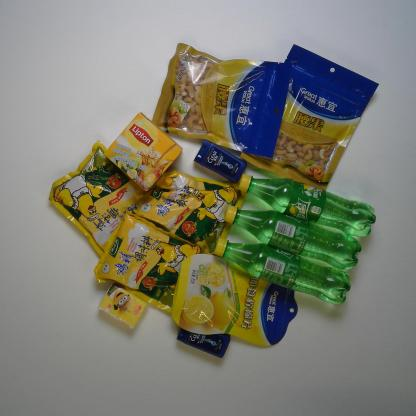Dried Fruit: (240, 43, 380, 191), (151, 42, 292, 158), (171, 253, 299, 347)
Drink: (213, 238, 351, 305), (237, 173, 377, 238), (224, 205, 362, 270)
Instant Drink: (104, 111, 184, 192)
Personal Hygiene: (193, 140, 247, 184), (176, 328, 230, 359)
Seasoner: (48, 140, 154, 258), (93, 211, 208, 313), (125, 168, 247, 256)
Tissue: (98, 280, 149, 330)
